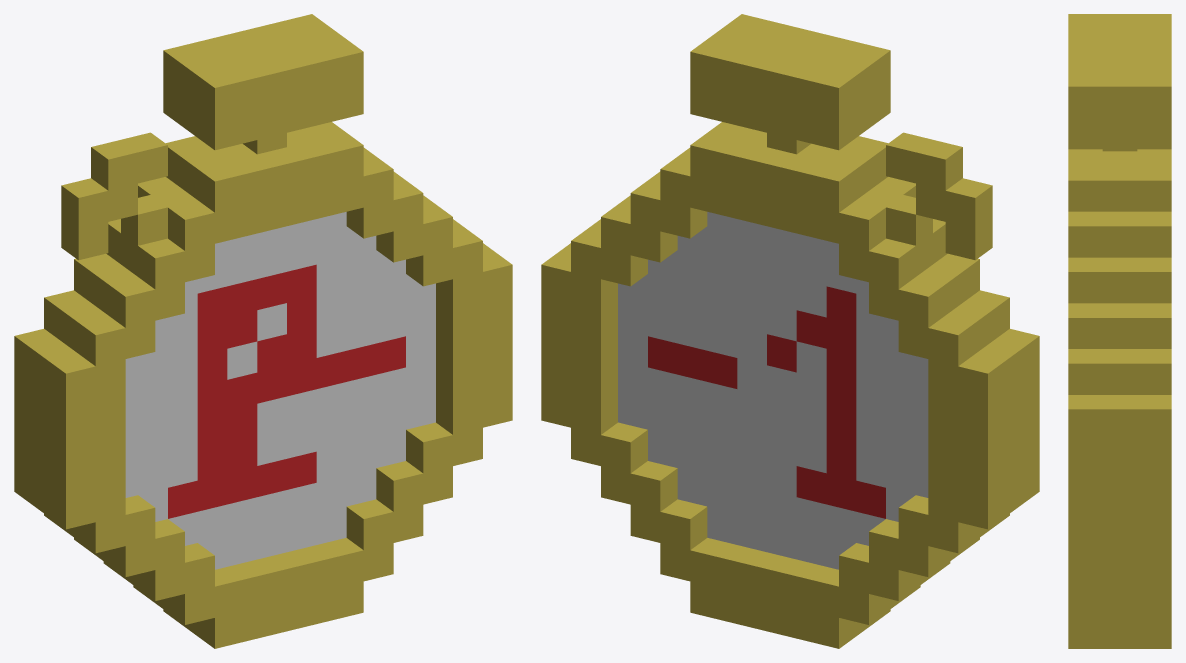
The model's file is time-1.fbx.
3 renders of one model, left to right at view 1: azimuth 30°, elevation 25°; view 2: azimuth 150°, elevation 25°; view 3: azimuth 270°, elevation 25°, orthographic.
Parts seen in each view (by area): view 1: Cube.003; view 2: Cube.003; view 3: Cube.003.
Boxes of the visible parts, box(x1,y1,x2,y2) form: Cube.003: box(14, 14, 512, 648); Cube.003: box(541, 14, 1039, 648); Cube.003: box(1068, 14, 1171, 648).
Size of the model in its own units: 135 by 162 by 27.
